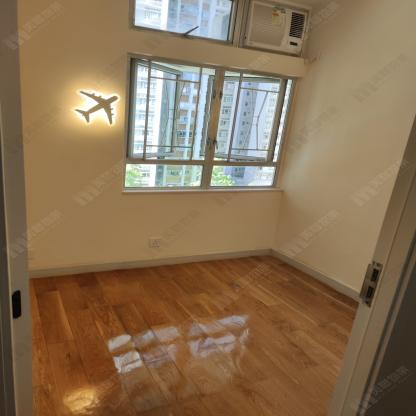AC: (241, 0, 308, 55)
